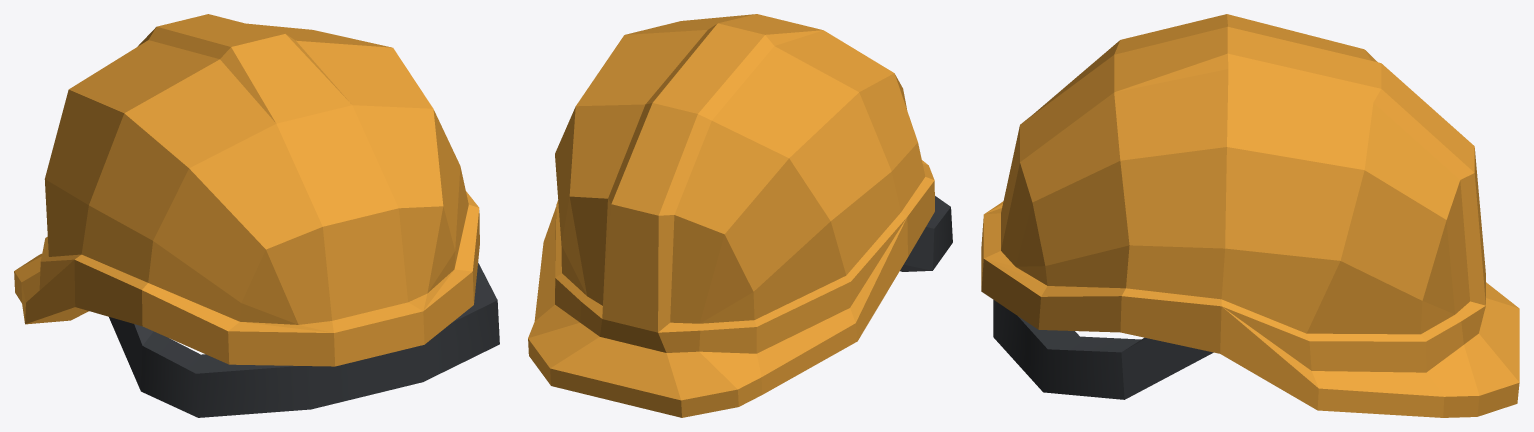
Rendered from SM_Chr_Attach_Helmet_Backwards_01.fbx.
The picture shows the model from 3 angles, left to right: view 1: azimuth 30°, elevation 25°; view 2: azimuth 150°, elevation 25°; view 3: azimuth 270°, elevation 25°; orthographic projection. The views are drawn at different scales.
Visible parts, largest first — view 1: SM_Chr_Attach_Helmet_Backwards_01; view 2: SM_Chr_Attach_Helmet_Backwards_01; view 3: SM_Chr_Attach_Helmet_Backwards_01.
Boxes of the visible parts, bbox=[...] form: SM_Chr_Attach_Helmet_Backwards_01: bbox=[14, 14, 499, 417]; SM_Chr_Attach_Helmet_Backwards_01: bbox=[528, 14, 952, 417]; SM_Chr_Attach_Helmet_Backwards_01: bbox=[981, 14, 1519, 417].
Bounding box in the file's own units: 29.63 × 24.41 × 36.45.
